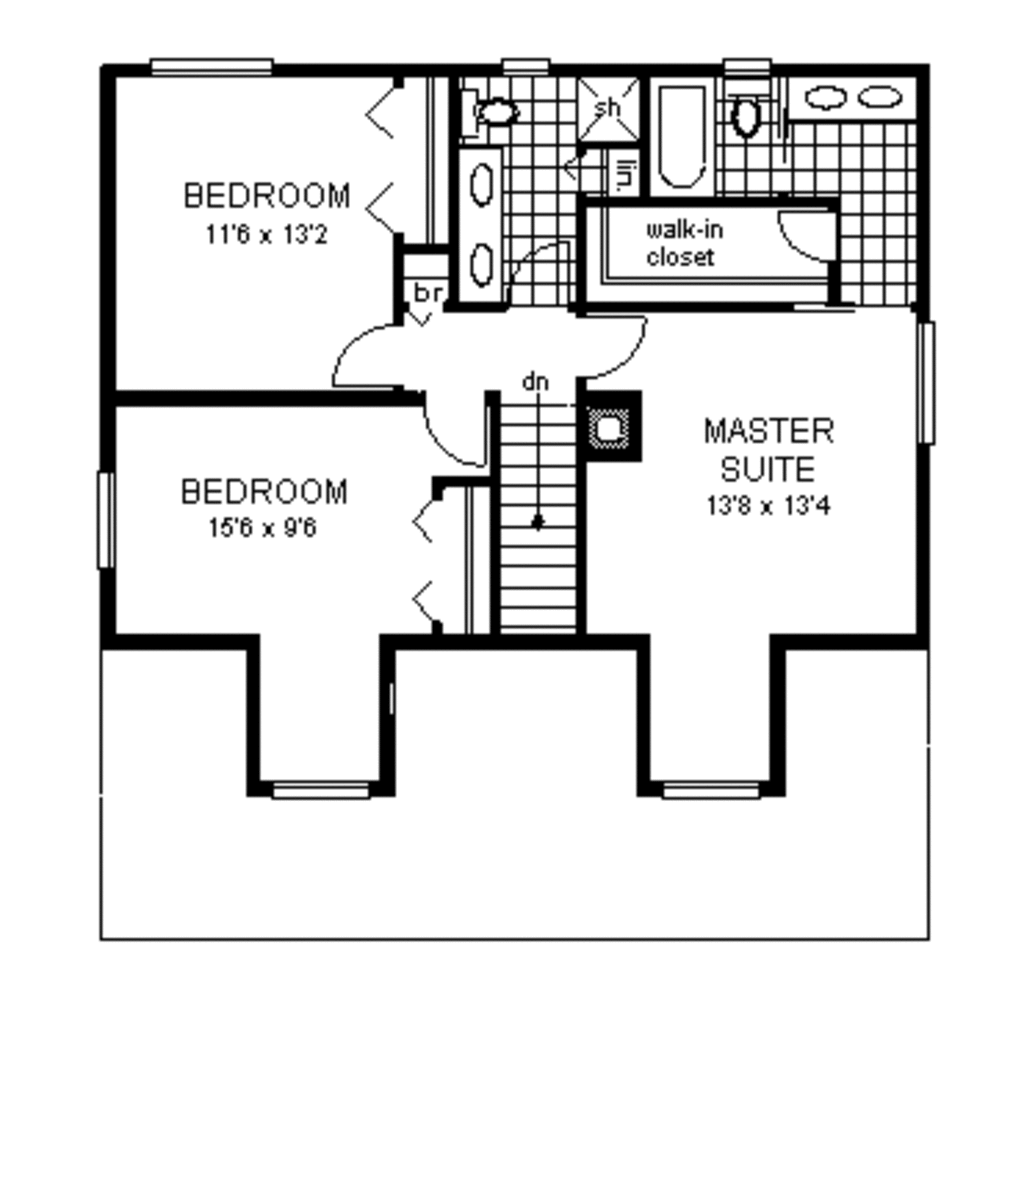door: (320, 314, 413, 388), (413, 392, 494, 470), (576, 309, 648, 373), (776, 199, 839, 268)
large_sink: (724, 61, 776, 148), (446, 90, 526, 140)
small_sink: (789, 70, 913, 131), (459, 144, 503, 301)
stairs: (503, 385, 590, 633)
tub: (635, 75, 713, 188)
window: (146, 46, 287, 86), (264, 775, 376, 809), (89, 464, 120, 573), (653, 779, 764, 805), (916, 316, 929, 438)
